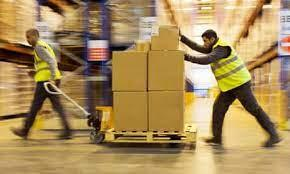Boxes: (114, 92, 149, 131), (114, 51, 147, 91), (150, 92, 183, 132), (149, 52, 182, 91), (150, 26, 179, 51)
